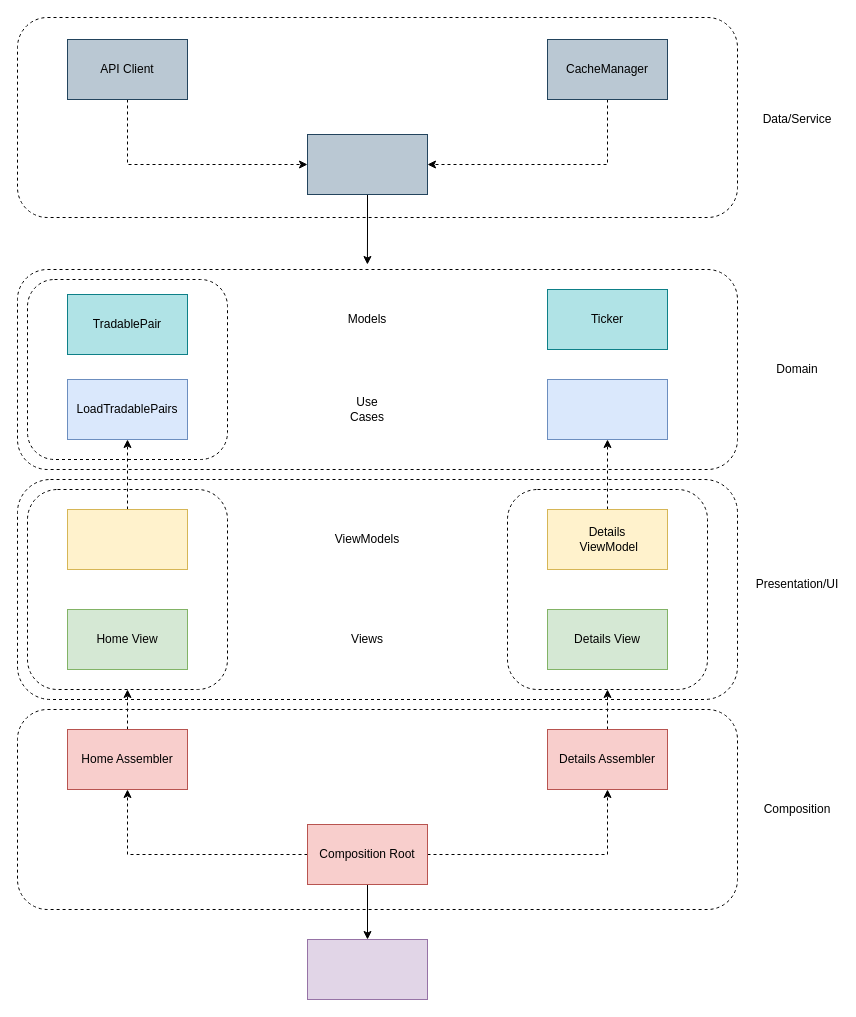
Image size: 856x1017. Some labels were removed from this diagram. Each missing label, with the centre of its shape:
"App" goes at point 367,969.
"Home ViewModel" goes at point 127,539.
"LoadTicker" goes at point 607,409.
"Repository" goes at point 367,164.
